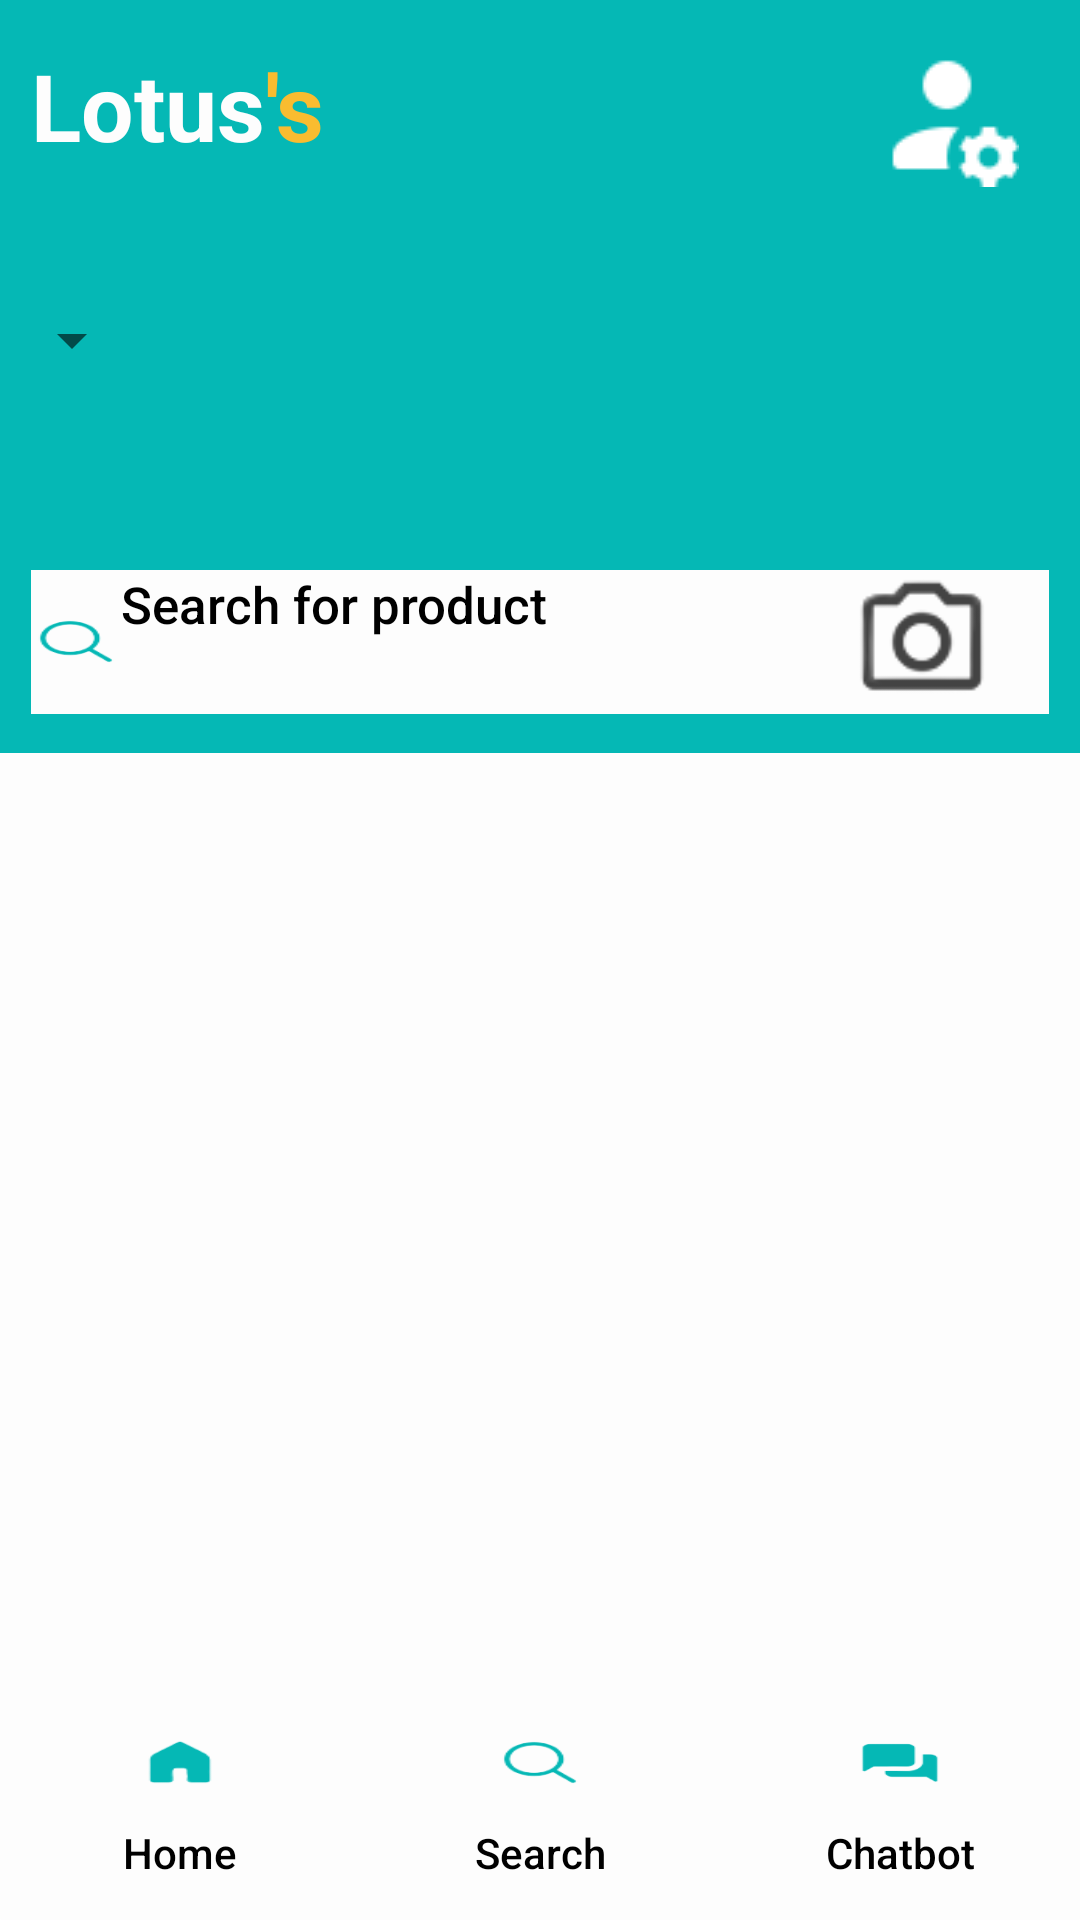

Where to tap for icons on this 1080px×1920px app screen, as point (x, y):
admin: point (955, 123)
